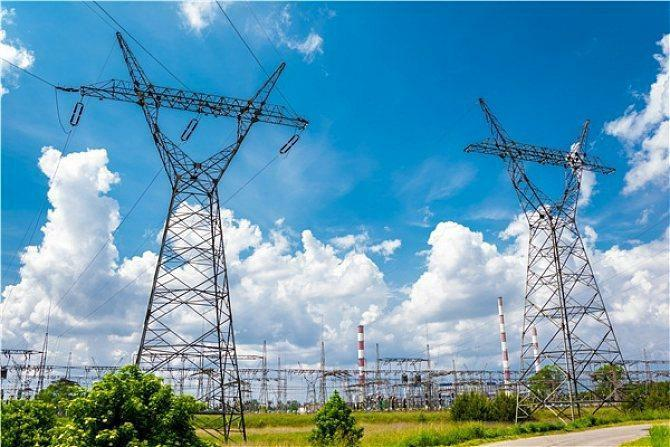power_tower: (68, 27, 315, 431), (462, 92, 648, 428)
